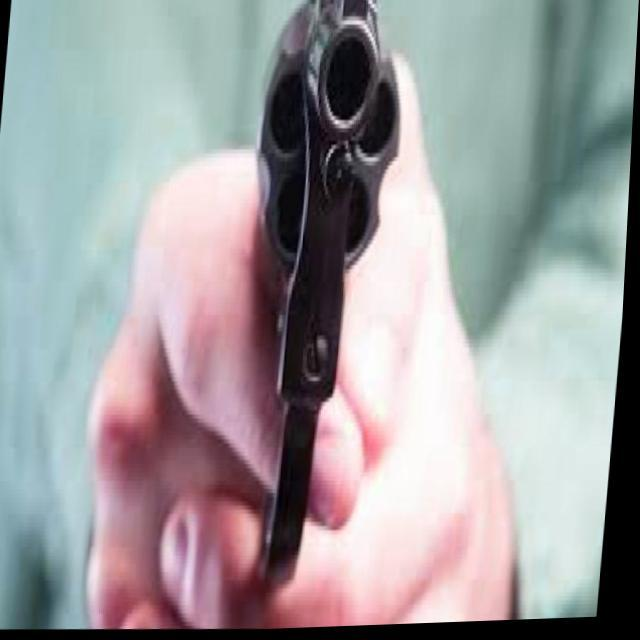weapon: (221, 0, 413, 590)
